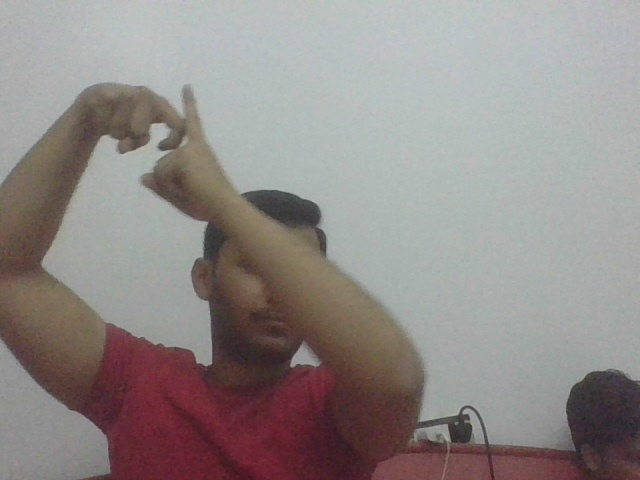K: (131, 81, 218, 160)
